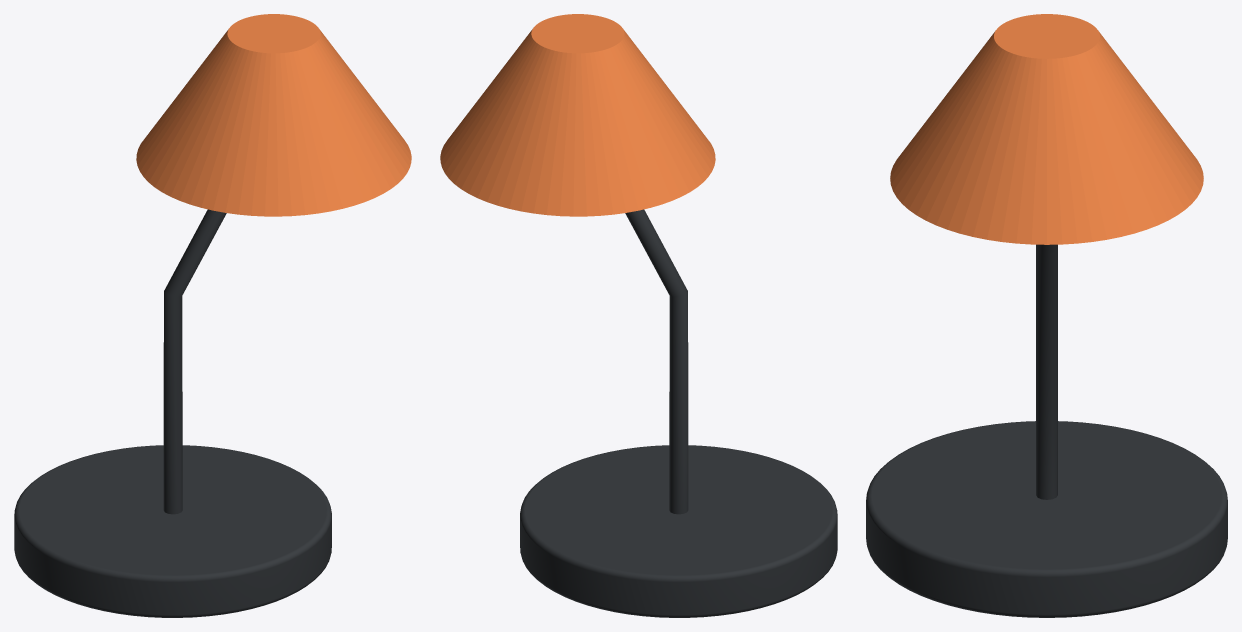
File: studio-lamp.glb
3 views of the same model, side by side, from view 1: azimuth 30°, elevation 25°; view 2: azimuth 150°, elevation 25°; view 3: azimuth 270°, elevation 25° (orthographic). The views are drawn at different scales.
Parts seen in each view (by area): view 1: Weighted foot, Cone, Offset stand; view 2: Weighted foot, Cone, Offset stand; view 3: Weighted foot, Cone, Offset stand.
Boxes of the visible parts, bbox=[...] form: Weighted foot: bbox=[14, 445, 331, 617]; Cone: bbox=[136, 14, 411, 216]; Offset stand: bbox=[163, 209, 226, 514]; Weighted foot: bbox=[520, 445, 837, 617]; Cone: bbox=[440, 14, 715, 216]; Offset stand: bbox=[625, 209, 688, 514]; Weighted foot: bbox=[866, 421, 1227, 617]; Cone: bbox=[890, 14, 1203, 244]; Offset stand: bbox=[1036, 244, 1057, 499].
Size of the model in its own units: 1.95 by 2.57 by 1.5.
